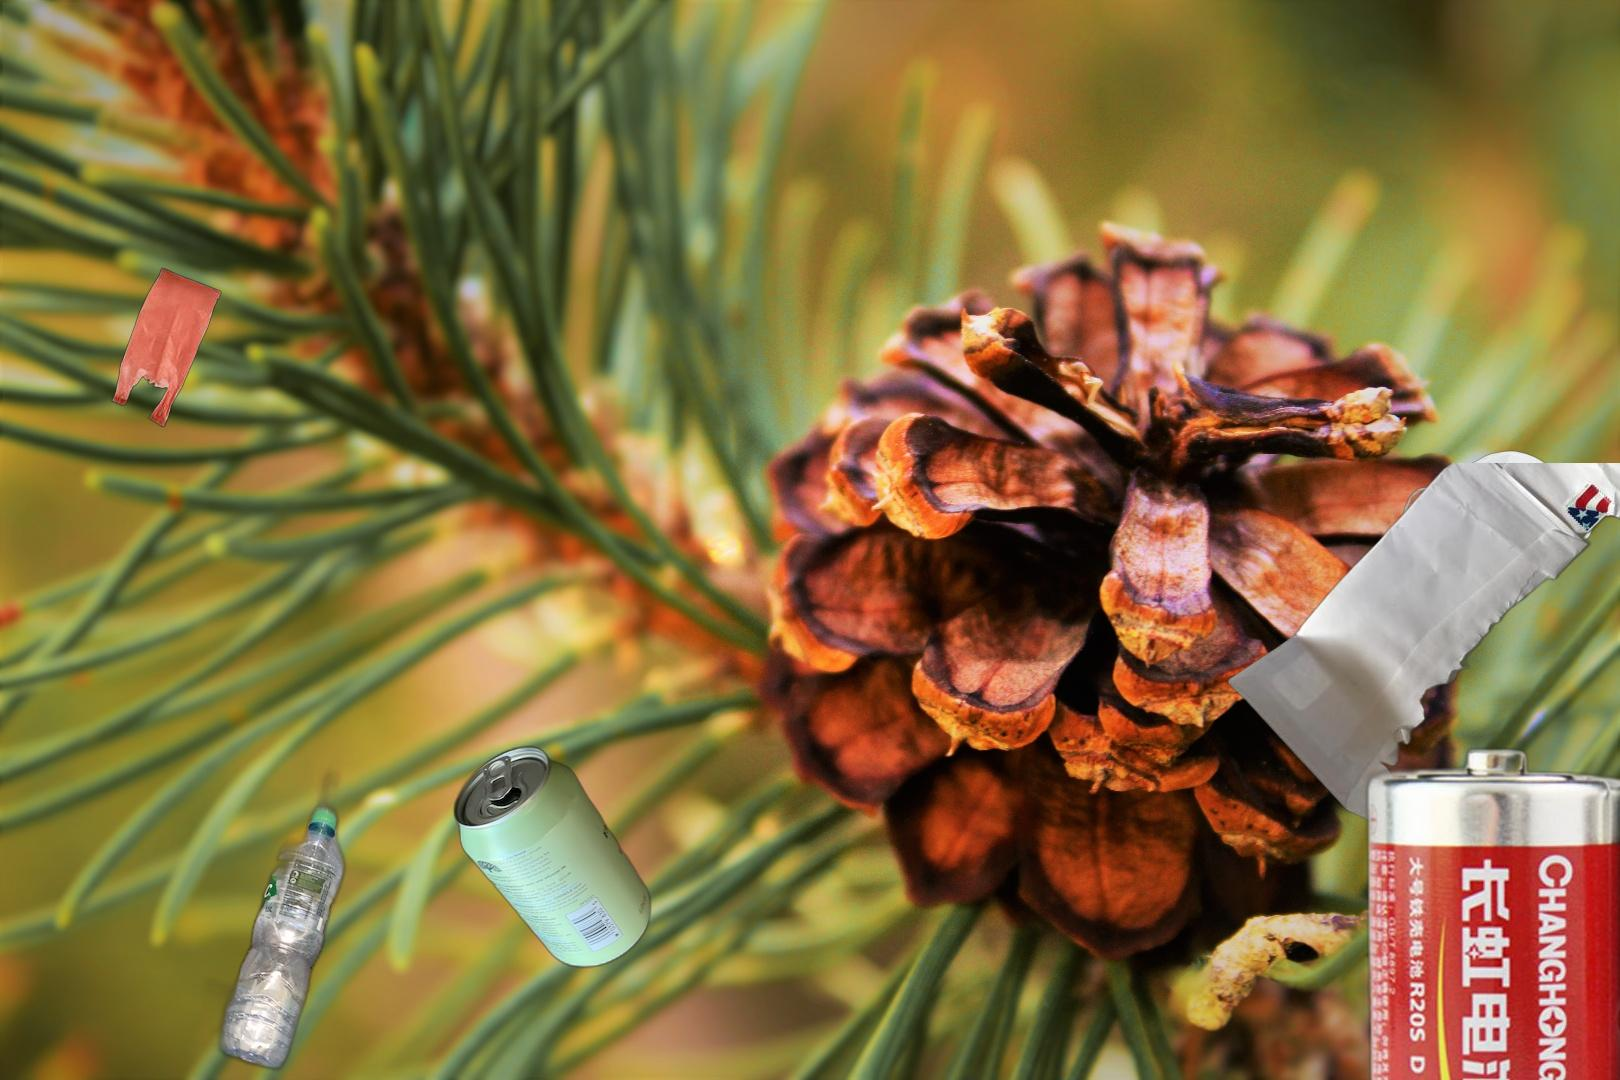battery: (1360, 742, 1620, 1080)
glass: (1254, 985, 1581, 1080)
metal-cans: (450, 741, 656, 973)
paper: (1223, 463, 1620, 828)
plastic-bag: (108, 266, 223, 428)
plastic-bottles: (46, 756, 350, 1080)
trash: (1399, 448, 1598, 585)
